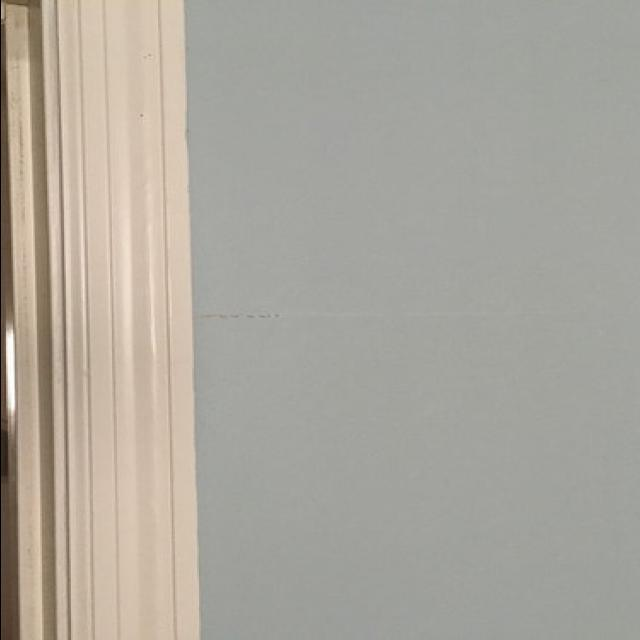wall_crack: (194, 308, 630, 319)
